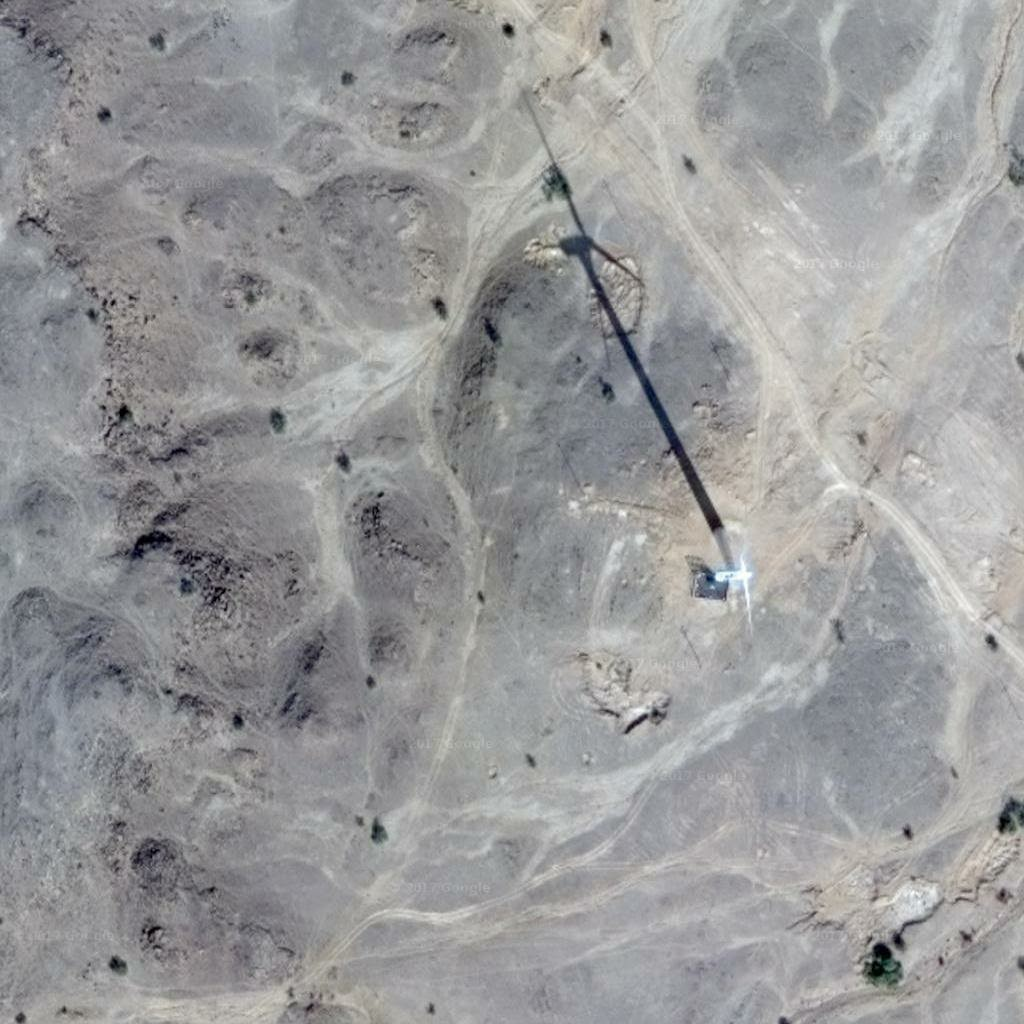Windmill: (508, 104, 747, 528)
